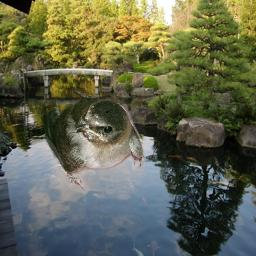Swallow: (27, 88, 145, 194)
